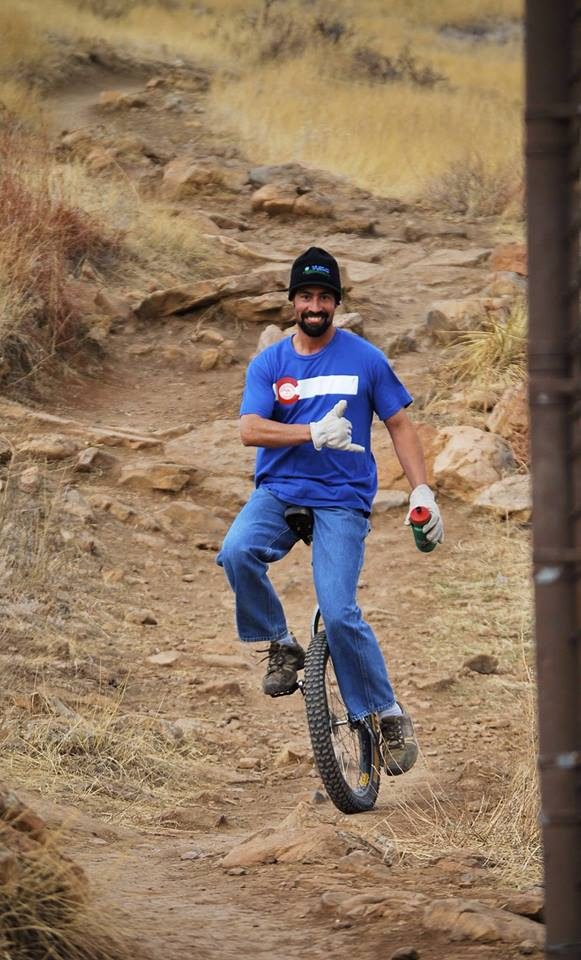seat: (271, 486, 351, 562)
wheel: (291, 623, 409, 824)
